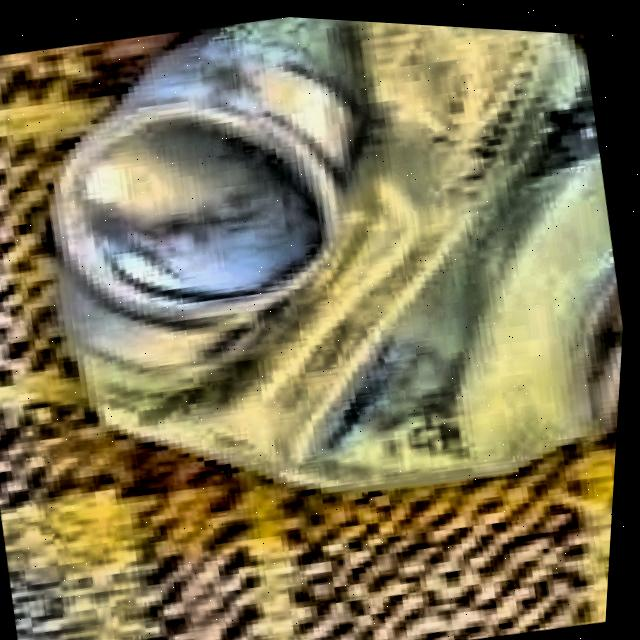metal: (49, 13, 627, 477)
